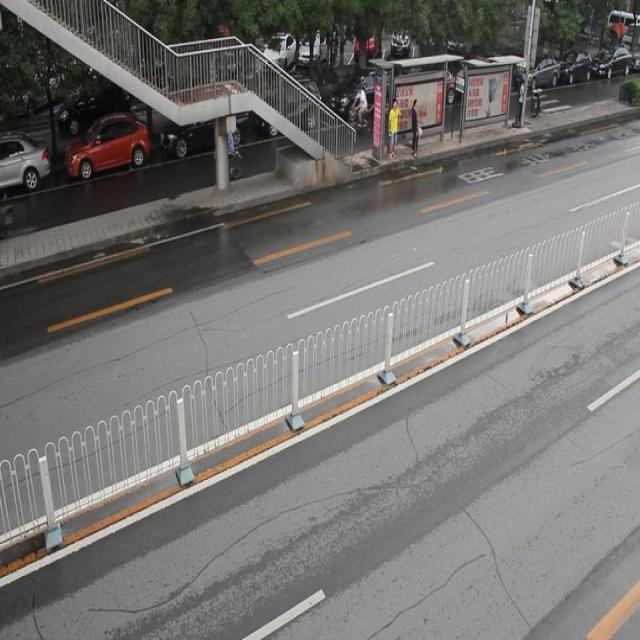car: (65, 114, 150, 176), (159, 102, 247, 158), (253, 82, 322, 140), (328, 73, 398, 125), (1, 128, 48, 192)
